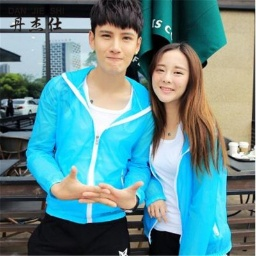face: (148, 41, 225, 165), (83, 1, 145, 77)
